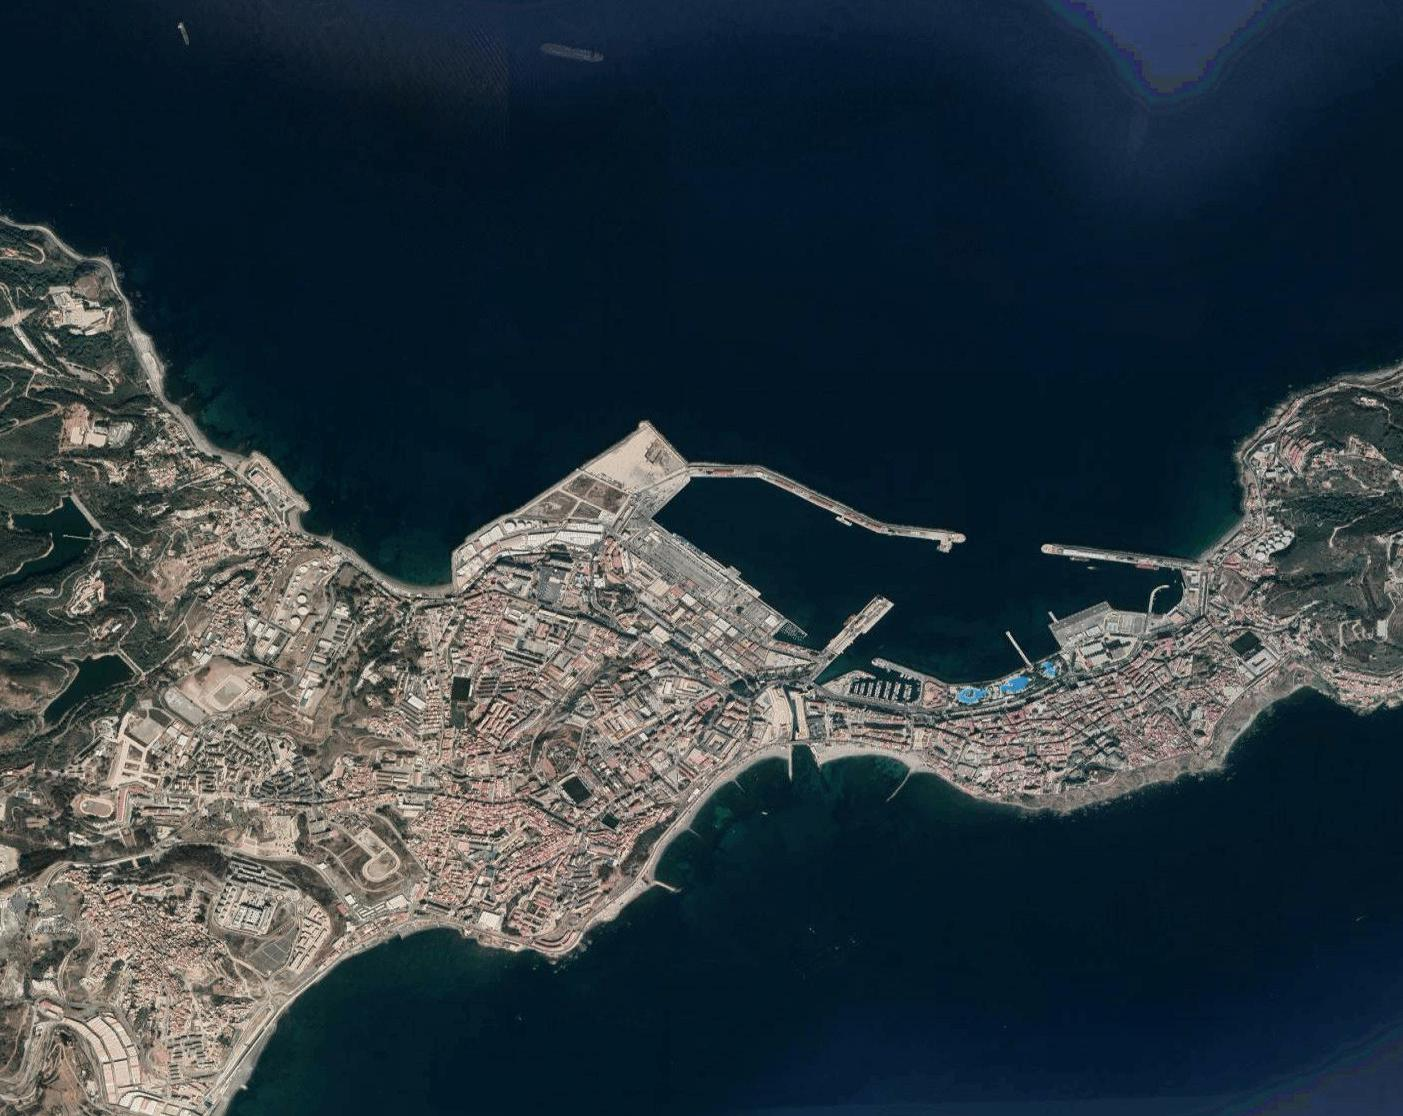harbor: (609, 407, 1208, 695)
